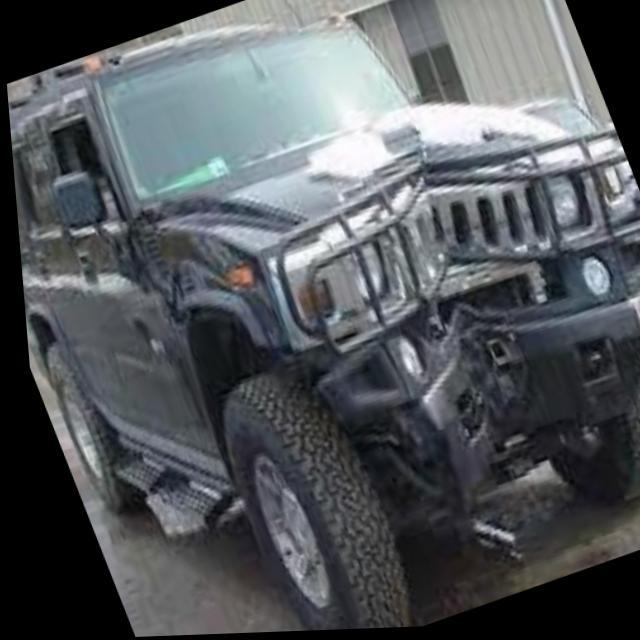dent: (249, 123, 638, 551)
